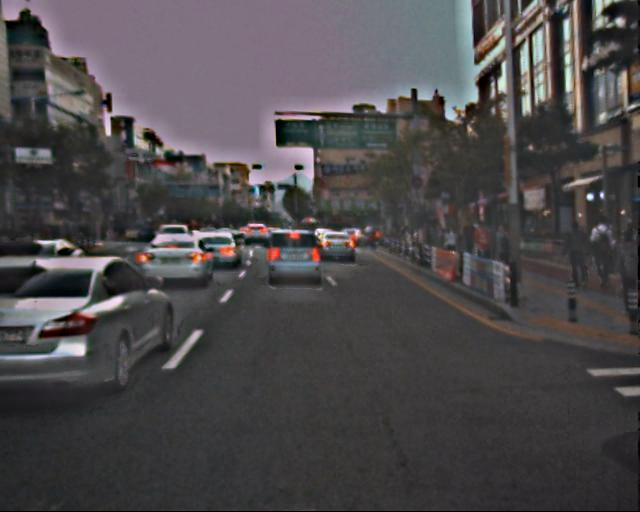person: (584, 216, 616, 293), (610, 228, 640, 310), (561, 220, 589, 289), (490, 225, 510, 273), (473, 220, 492, 267), (459, 220, 477, 264), (444, 227, 460, 266)
